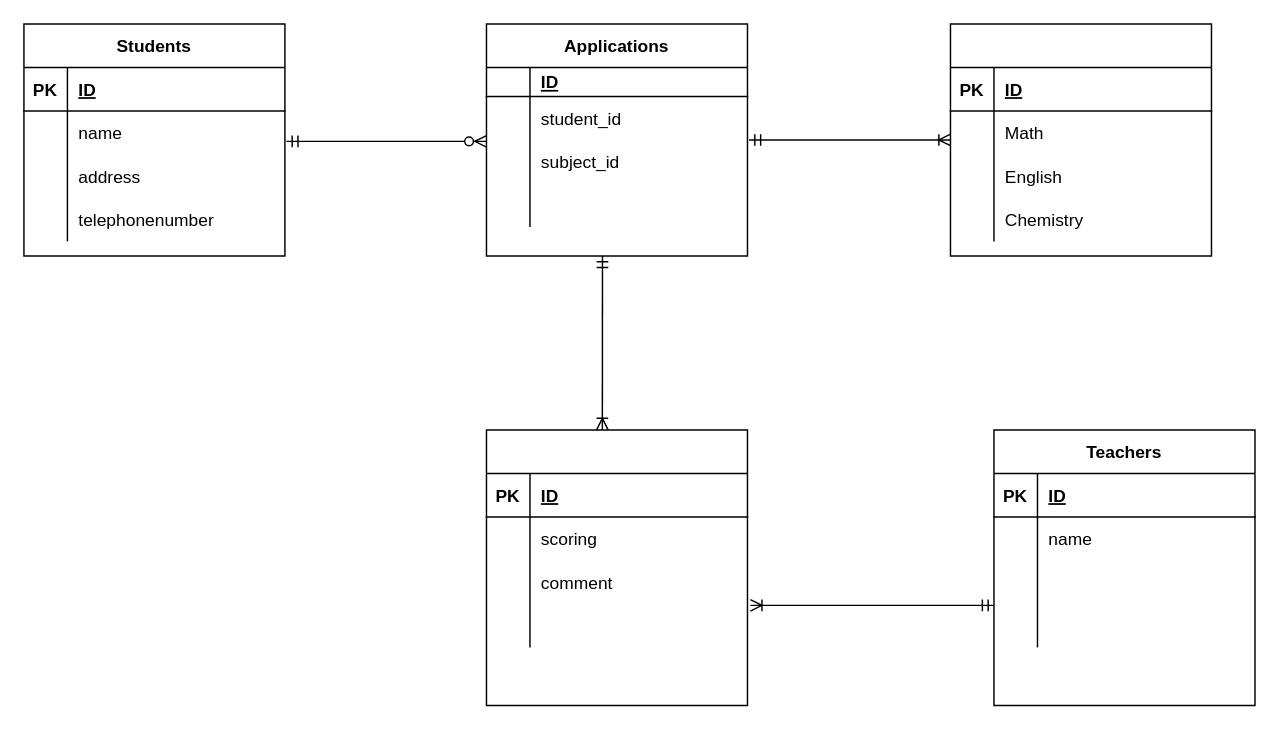
Some shapes in this 1279 by 729 pixel diagram are drawn without their labels. The shapes that lost their labels are listed below. From the top down, each one's box as (x1, y1, x2, y2) in pixels, then its label:
(949, 22, 1211, 256): Subjects
(485, 428, 747, 705): Test results
